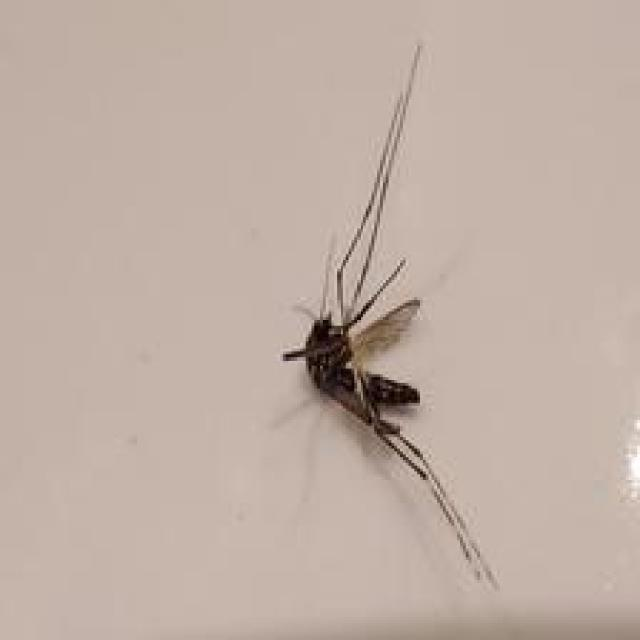Aedes albopictus: (278, 41, 502, 593)
